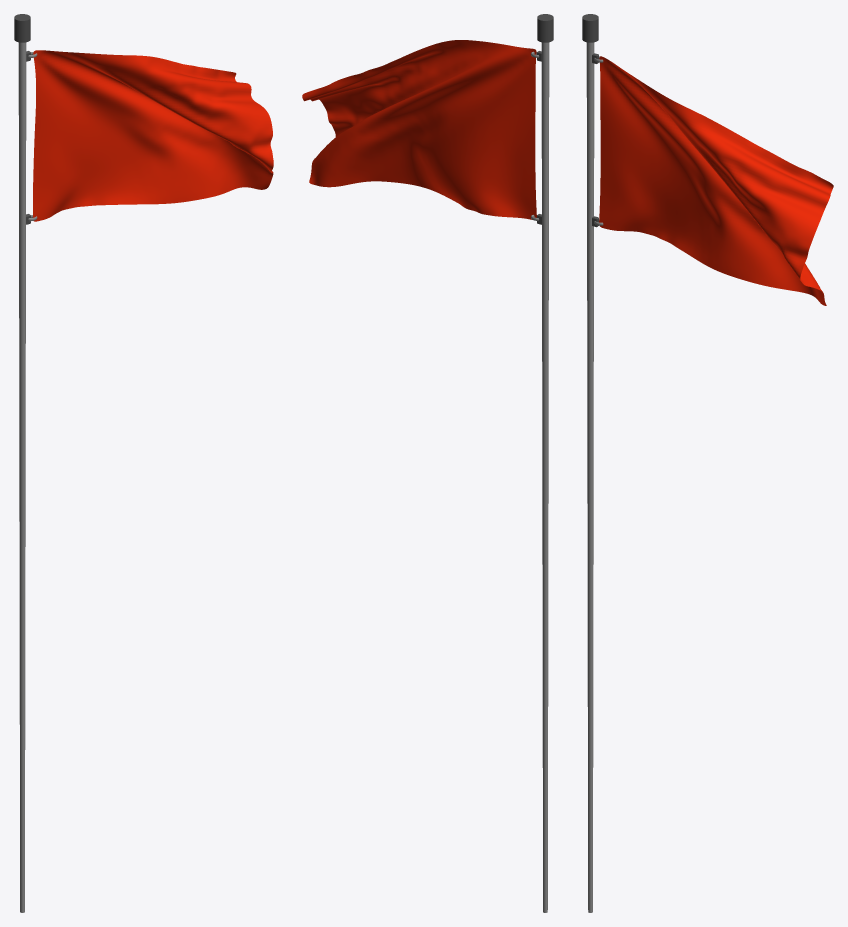
The model's file is Flag.fbx.
3 renders of one model, left to right at view 1: azimuth 30°, elevation 25°; view 2: azimuth 150°, elevation 25°; view 3: azimuth 330°, elevation 25°, orthographic.
Parts seen in each view (by area): view 1: Plane, Circle; view 2: Plane, Circle; view 3: Plane, Circle.
Part boxes in pixels (x1,y1,x2,y2): Plane: (33, 50, 273, 221); Circle: (14, 14, 30, 912); Plane: (302, 40, 536, 219); Circle: (537, 14, 553, 912); Plane: (599, 56, 833, 305); Circle: (582, 14, 598, 912).
Size of the model in its own units: 303 by 1040 by 75.28.
